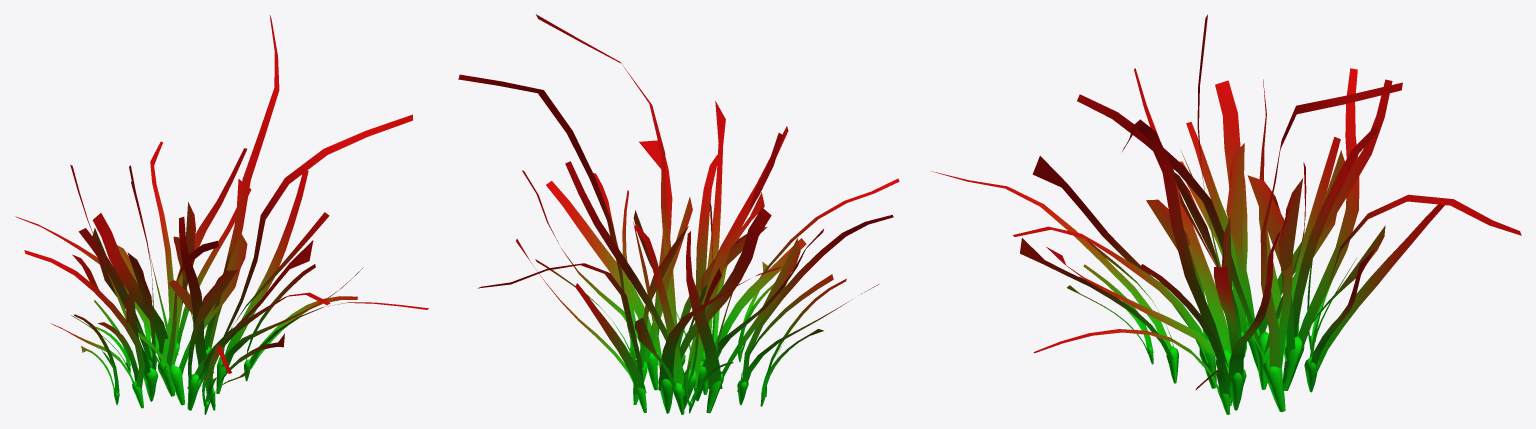
Rendered from QXL_Ribbon_Grass_tbdpec3r_3_LOD1.fbx.
3 renders of one model, left to right at view 1: azimuth 30°, elevation 25°; view 2: azimuth 150°, elevation 25°; view 3: azimuth 270°, elevation 25°, orthographic. The views are drawn at different scales.
Visible parts, largest first — view 1: Var4_LOD1; view 2: Var4_LOD1; view 3: Var4_LOD1.
Part boxes in pixels (x1,y1,x2,y2): Var4_LOD1: [15, 15, 428, 414]; Var4_LOD1: [458, 14, 899, 414]; Var4_LOD1: [931, 14, 1521, 414].
Bounding box in the file's own units: 43.61 × 35.89 × 47.85.
